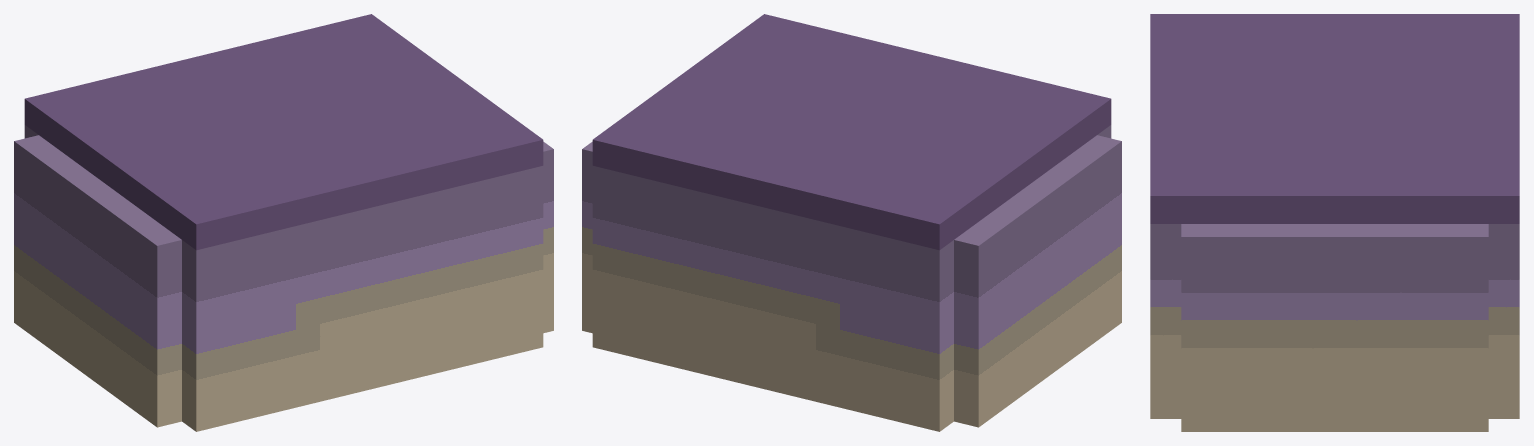
The model's file is Head_4.fbx.
3 views of the same model, side by side, from view 1: azimuth 30°, elevation 25°; view 2: azimuth 150°, elevation 25°; view 3: azimuth 270°, elevation 25° (orthographic). The views are drawn at different scales.
Parts seen in each view (by area): view 1: Head_4; view 2: Head_4; view 3: Head_4.
Part boxes in pixels (left/top/right/bottom): Head_4: left=14, top=14, right=553, bottom=431; Head_4: left=582, top=14, right=1121, bottom=431; Head_4: left=1150, top=14, right=1519, bottom=431.
Size of the model in its own units: 16 by 8 by 12.
1 material, 1 textured.
